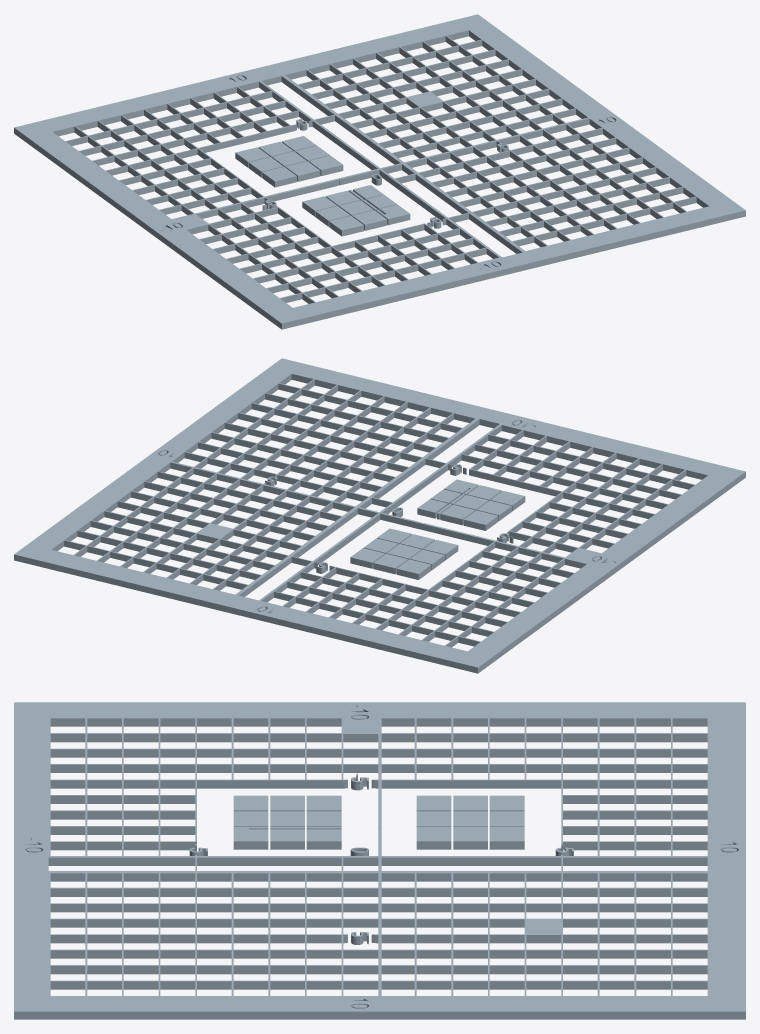
3 views of the same model, one above another, from view 1: azimuth 30°, elevation 25°; view 2: azimuth 150°, elevation 25°; view 3: azimuth 270°, elevation 25° (orthographic). The views are drawn at different scales.
Visible parts, largest first — view 1: Mesh_Mesh_head_geo.001_lambert2SG.001; view 2: Mesh_Mesh_head_geo.001_lambert2SG.001; view 3: Mesh_Mesh_head_geo.001_lambert2SG.001.
Part boxes in pixels (<box>): Mesh_Mesh_head_geo.001_lambert2SG.001: <box>14,14,745,329</box>; Mesh_Mesh_head_geo.001_lambert2SG.001: <box>14,358,745,673</box>; Mesh_Mesh_head_geo.001_lambert2SG.001: <box>14,702,745,1019</box>.
Bounding box in the file's own units: 800 × 10 × 800.
